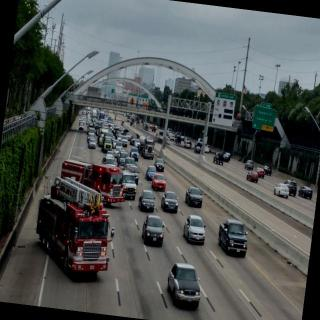Fire_truck: (30, 172, 120, 278), (57, 158, 129, 208)
